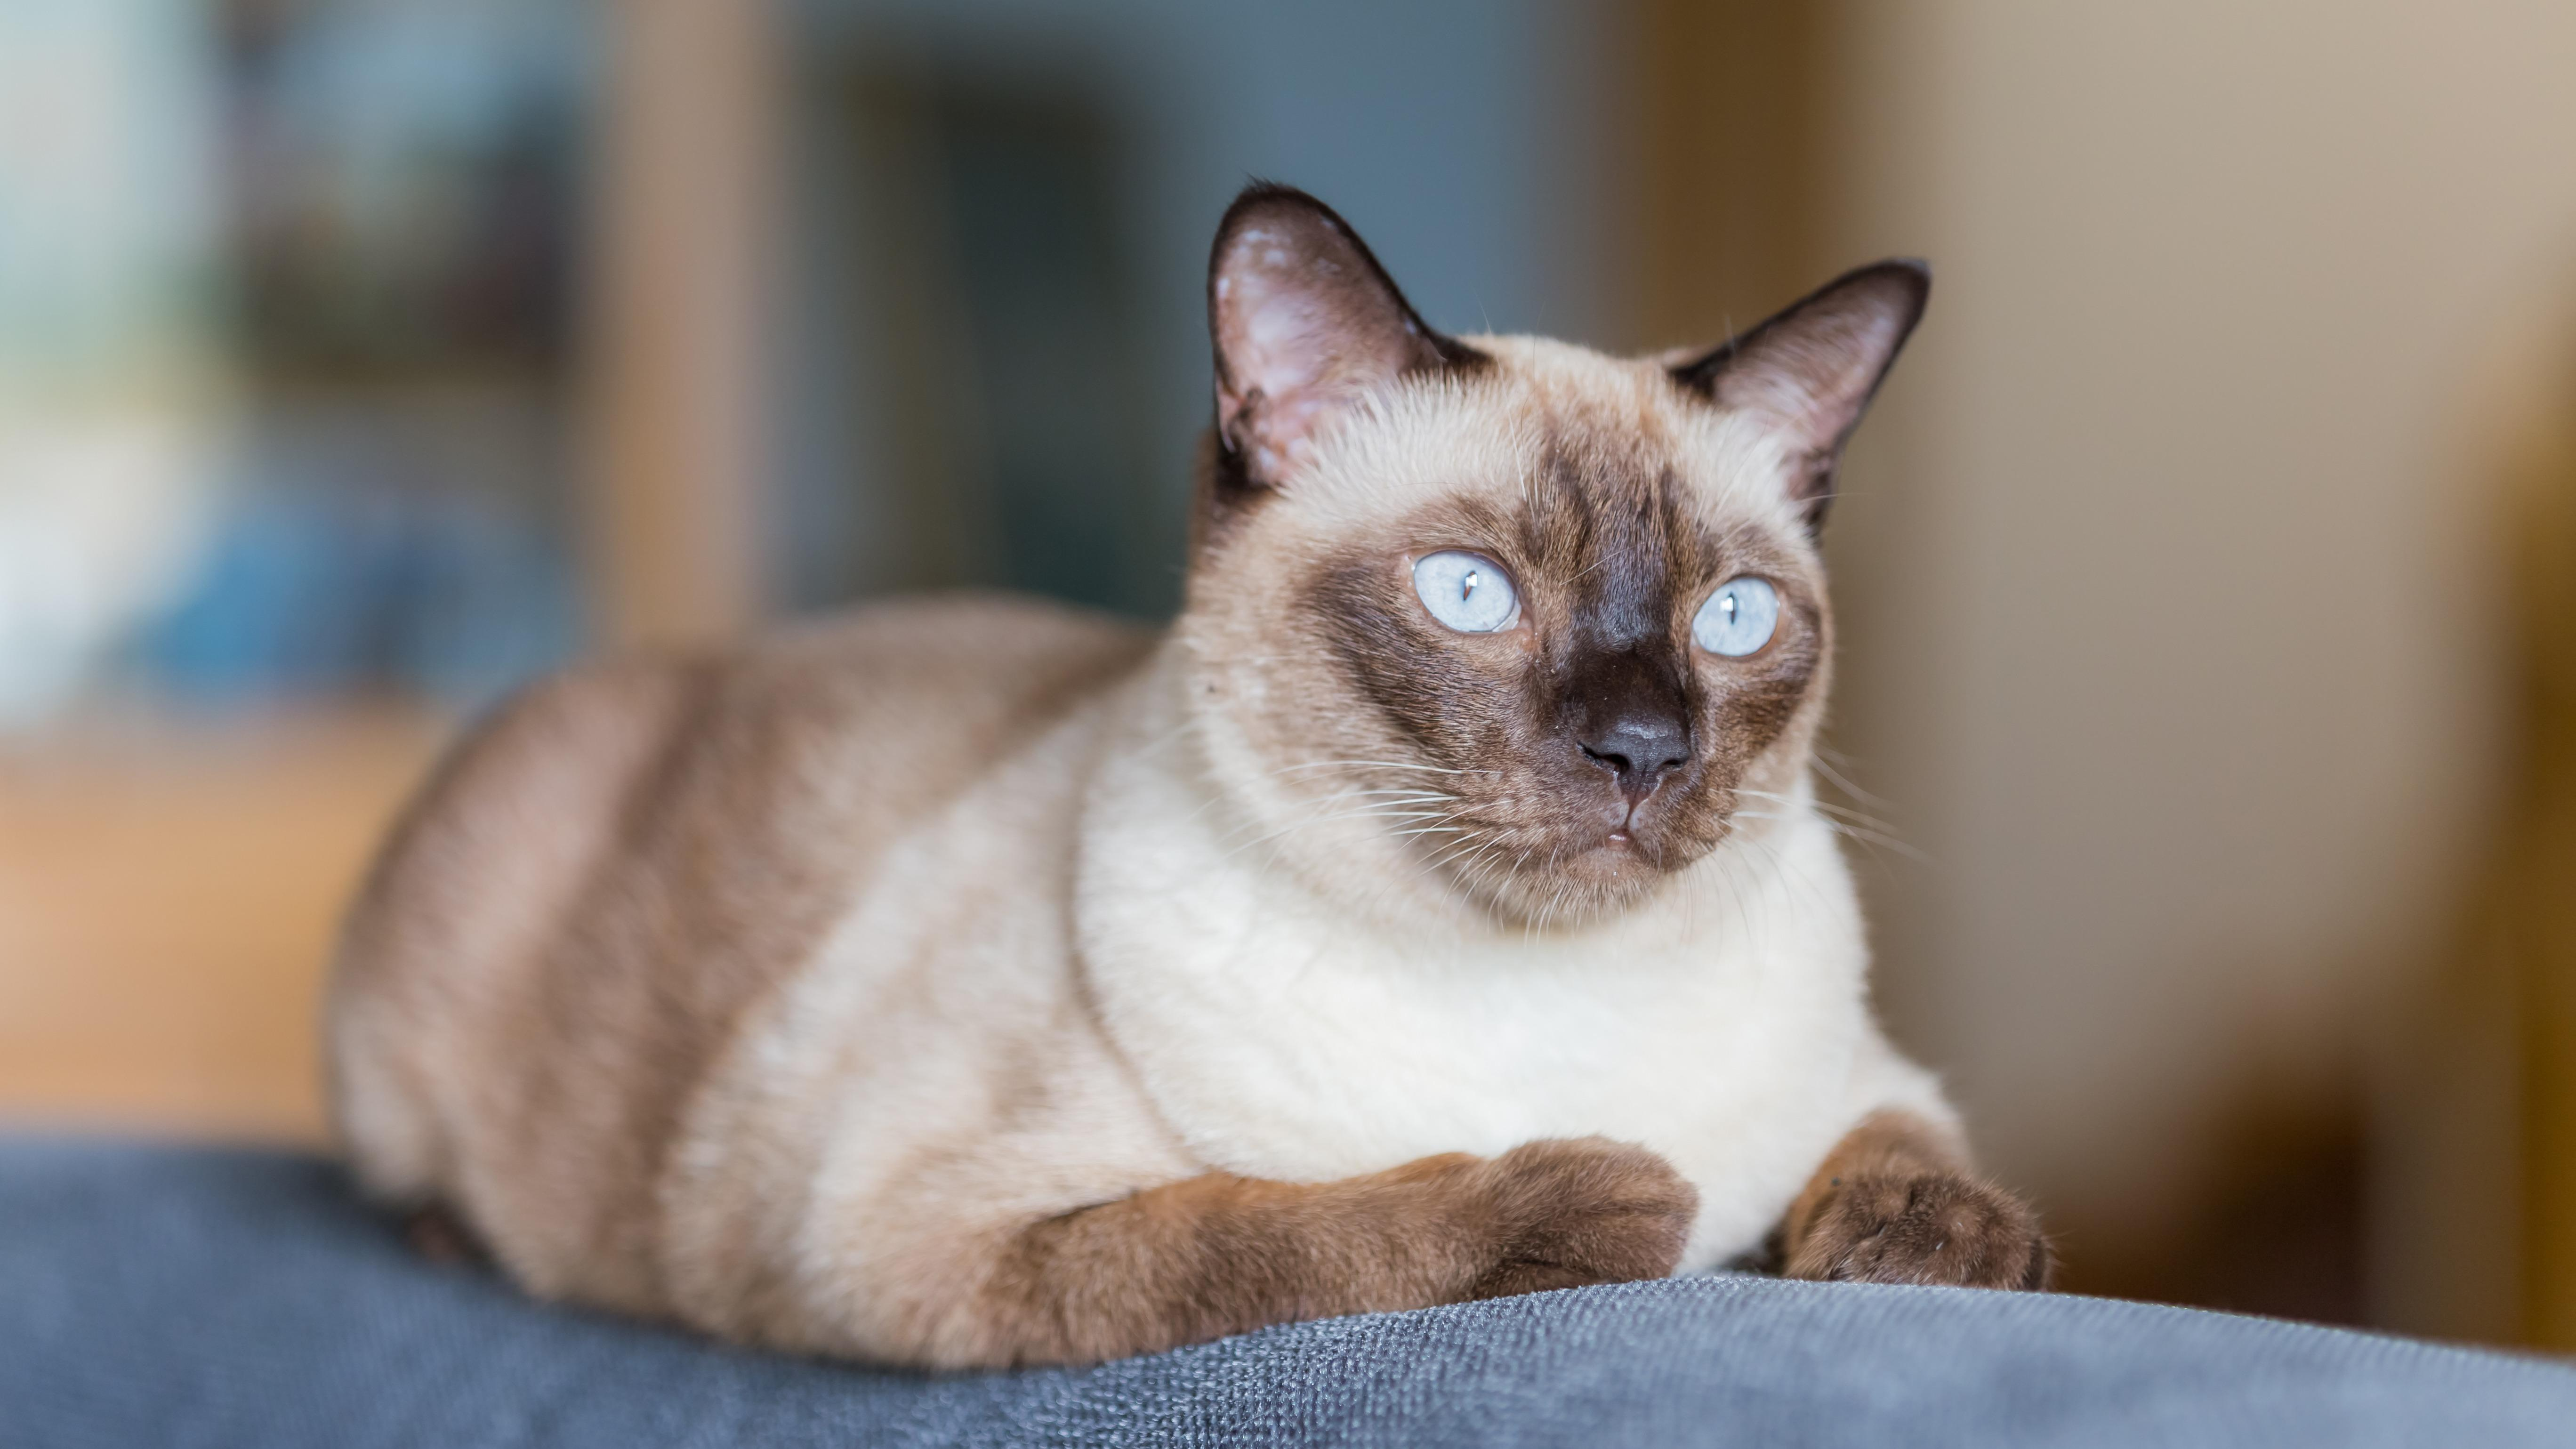siamese: (1187, 163, 1936, 973)
